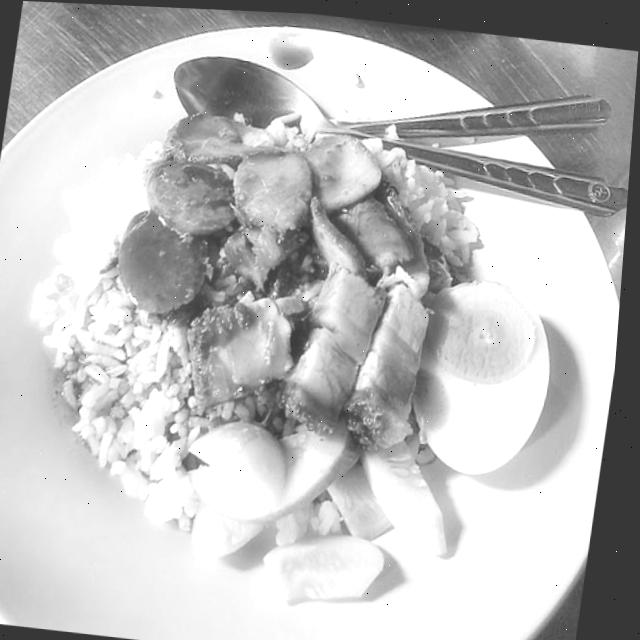猪肉菜式: (0, 40, 607, 633)
